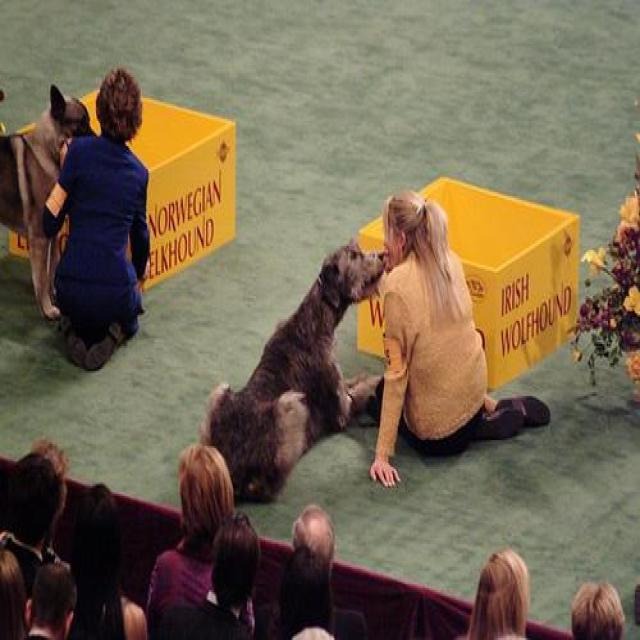irish_wolfhound: (198, 235, 397, 500), (0, 82, 100, 328)
